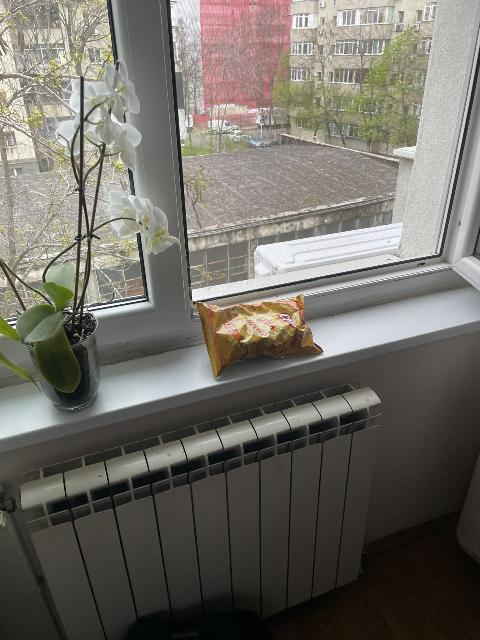Chio Hula Hoops Cheese 70g: (195, 293, 320, 376)
